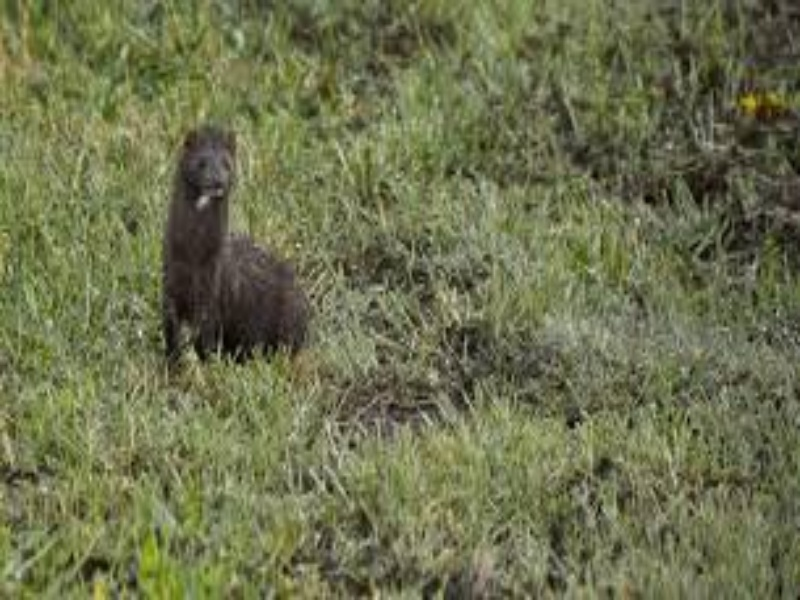minkish: (160, 120, 319, 368)
